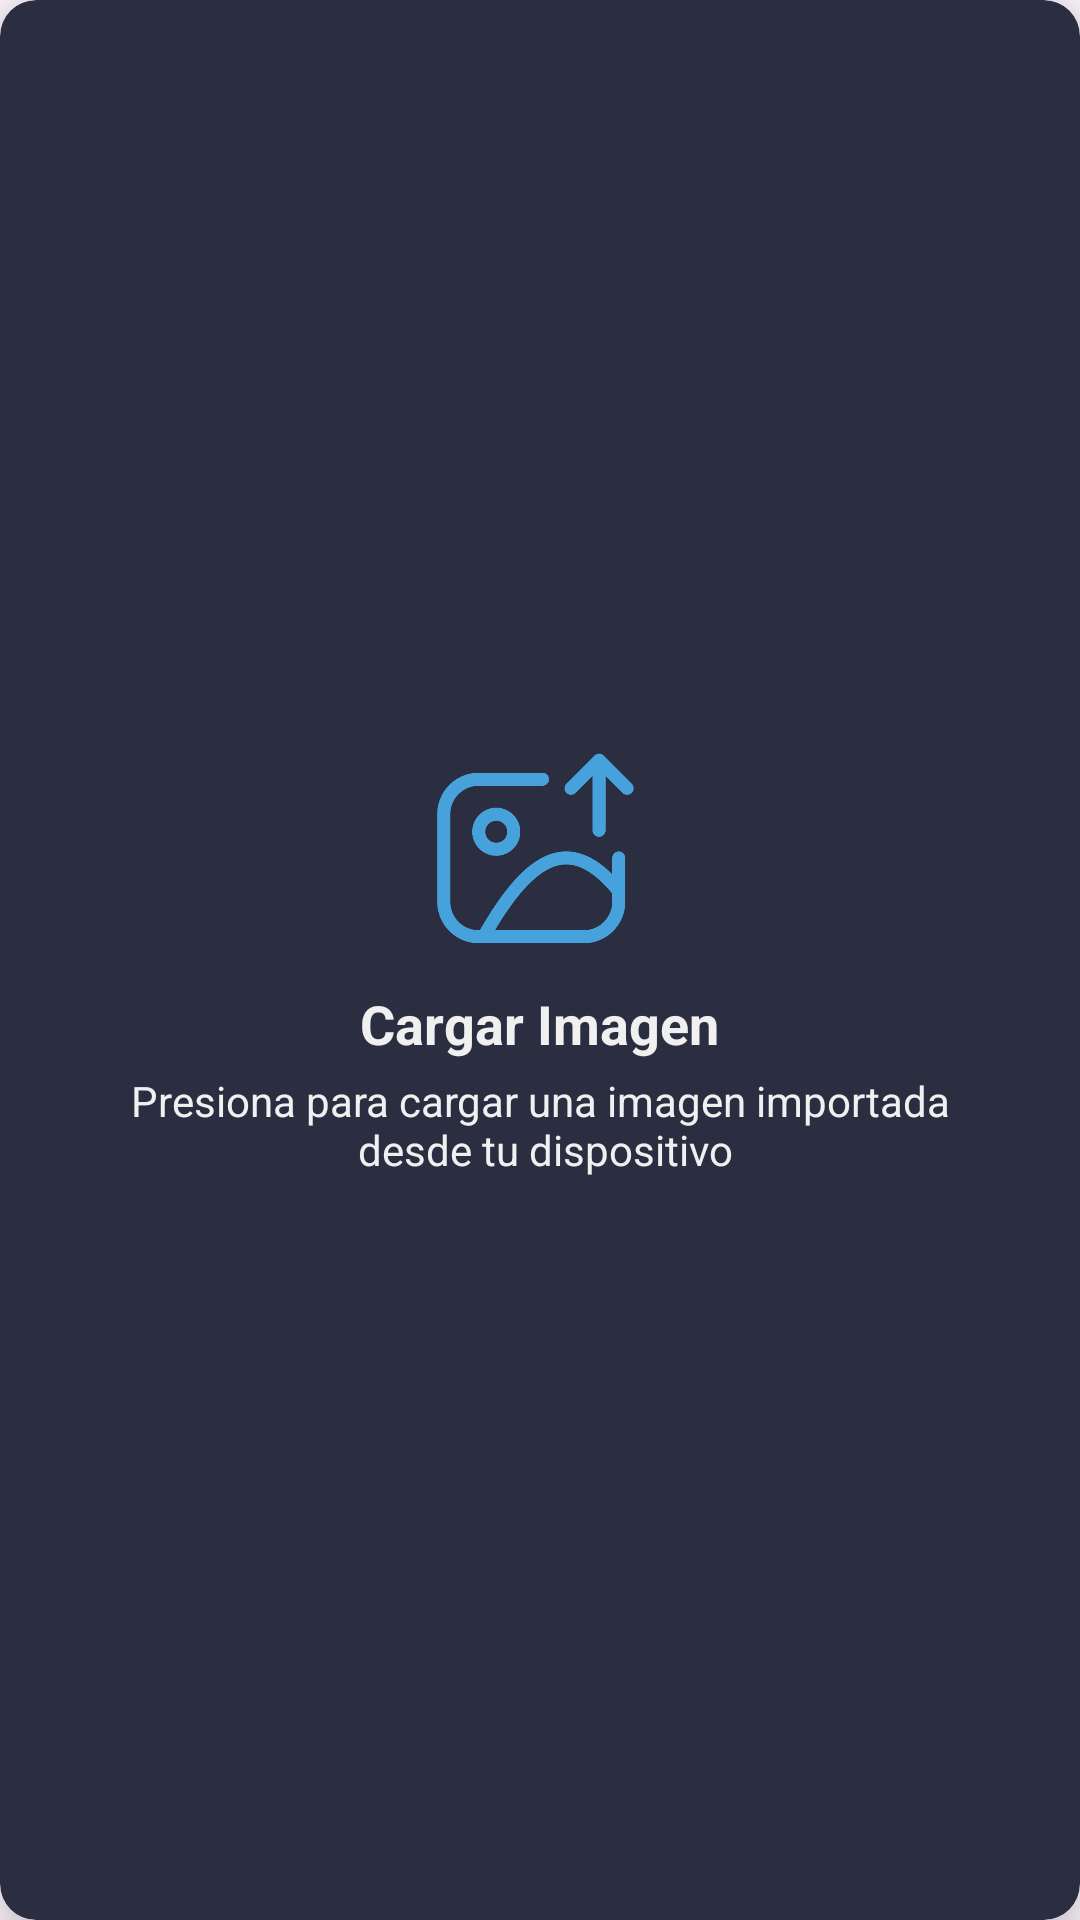

Named icons in this screenshot (1080x1920) and their centers, point (x, y):
upload: point (535, 848)
